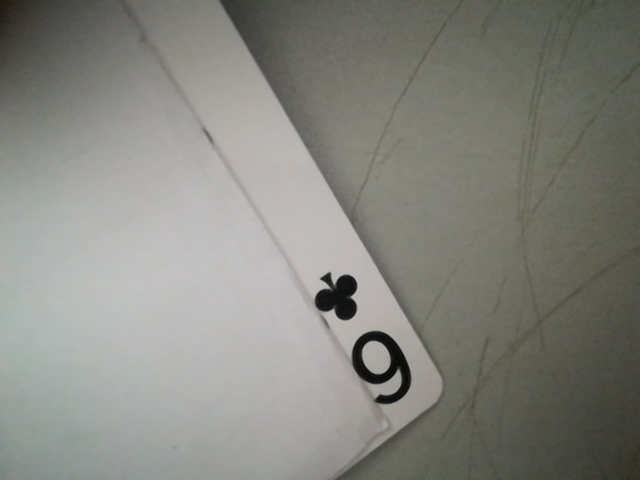mh 6: (306, 260, 430, 429)
